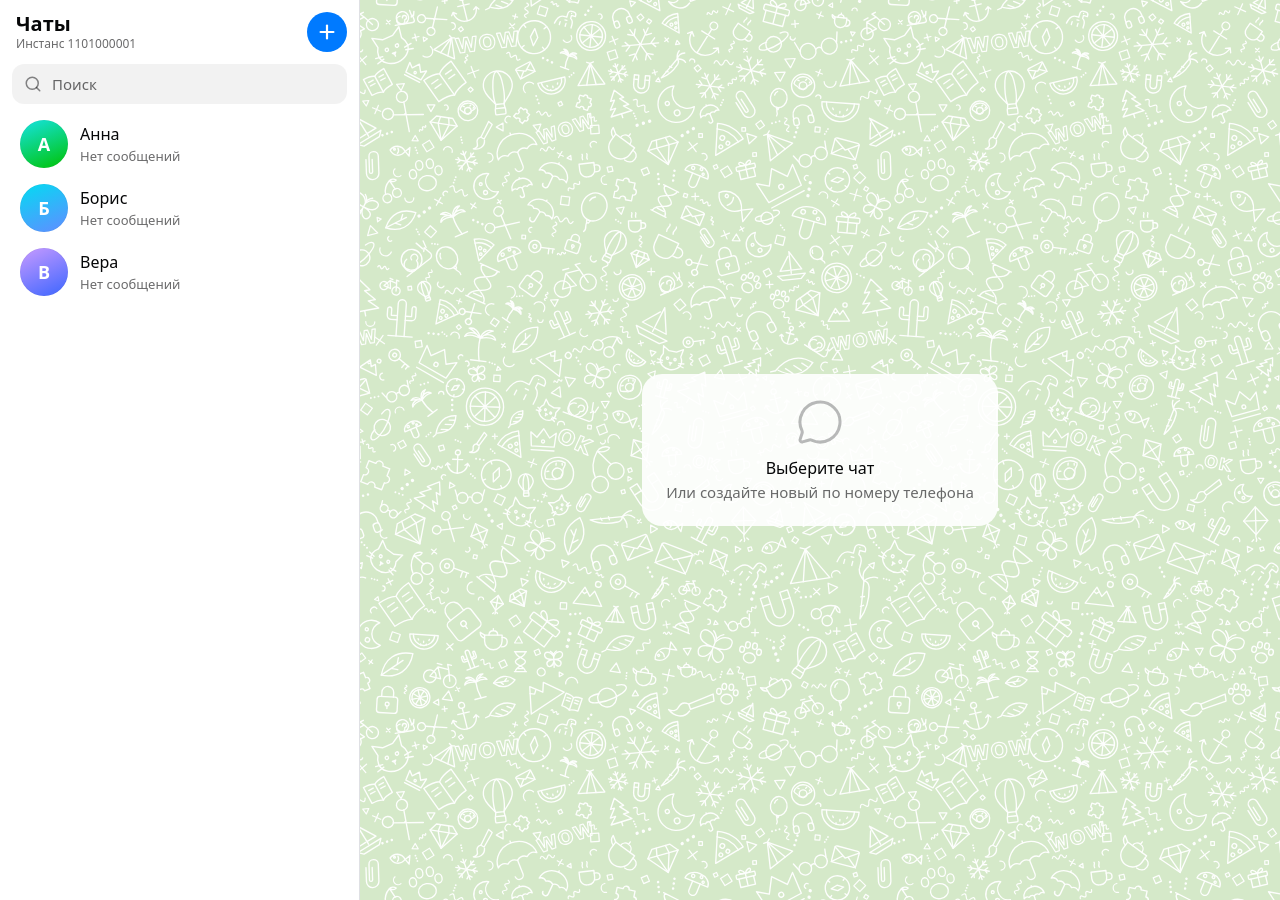
Scenario: ChatPage: история сообщений › если историю получить не удалось, показывает ошибку и повторяет по кнопке
Click the button "А Анна Нет сообщений": [180, 144] box [8,112,351,176]
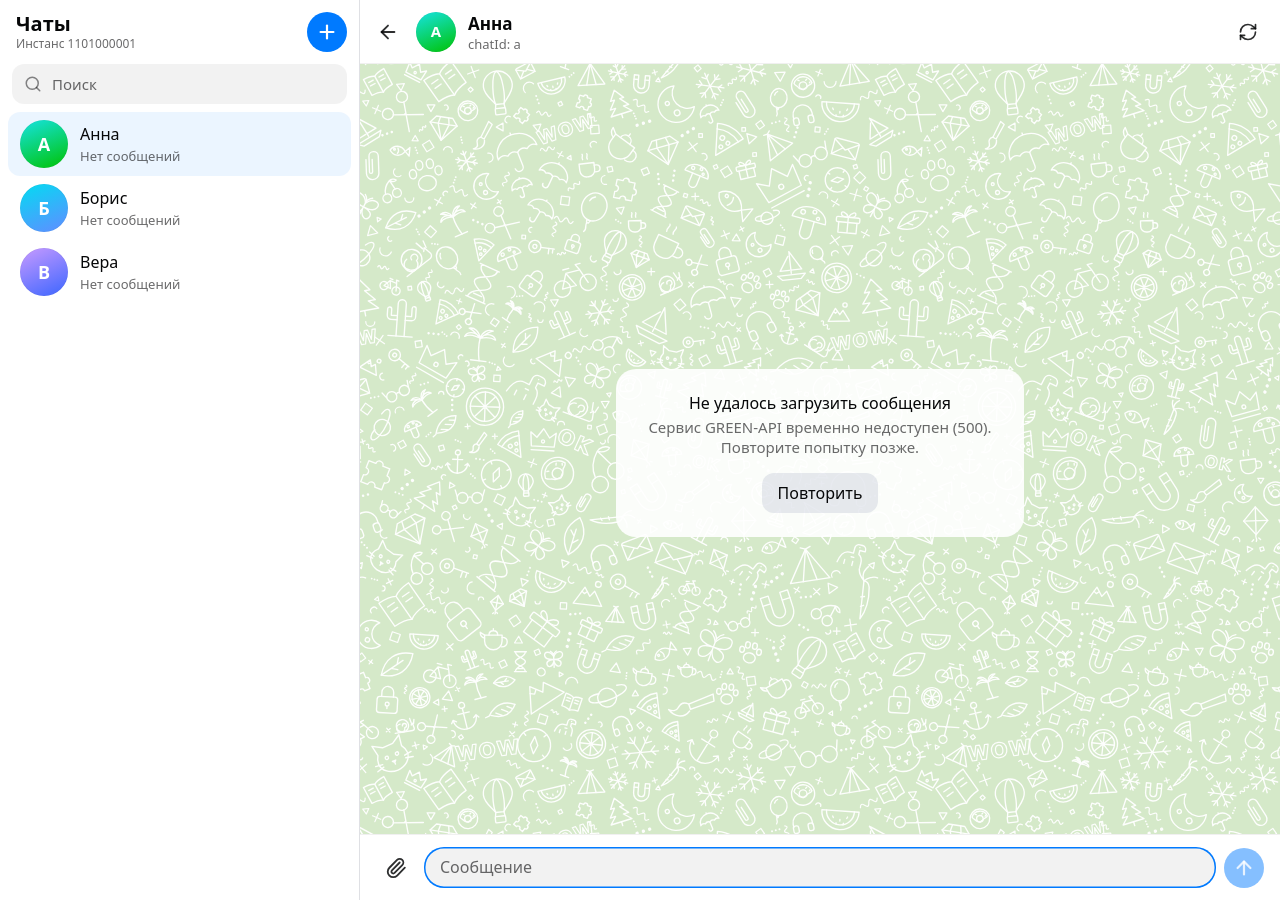
Check: the text "Не удалось загрузить сообщения" is shown, box [689,393,951,413]
Click the button "Повторить": [820, 493] box [762,473,878,513]
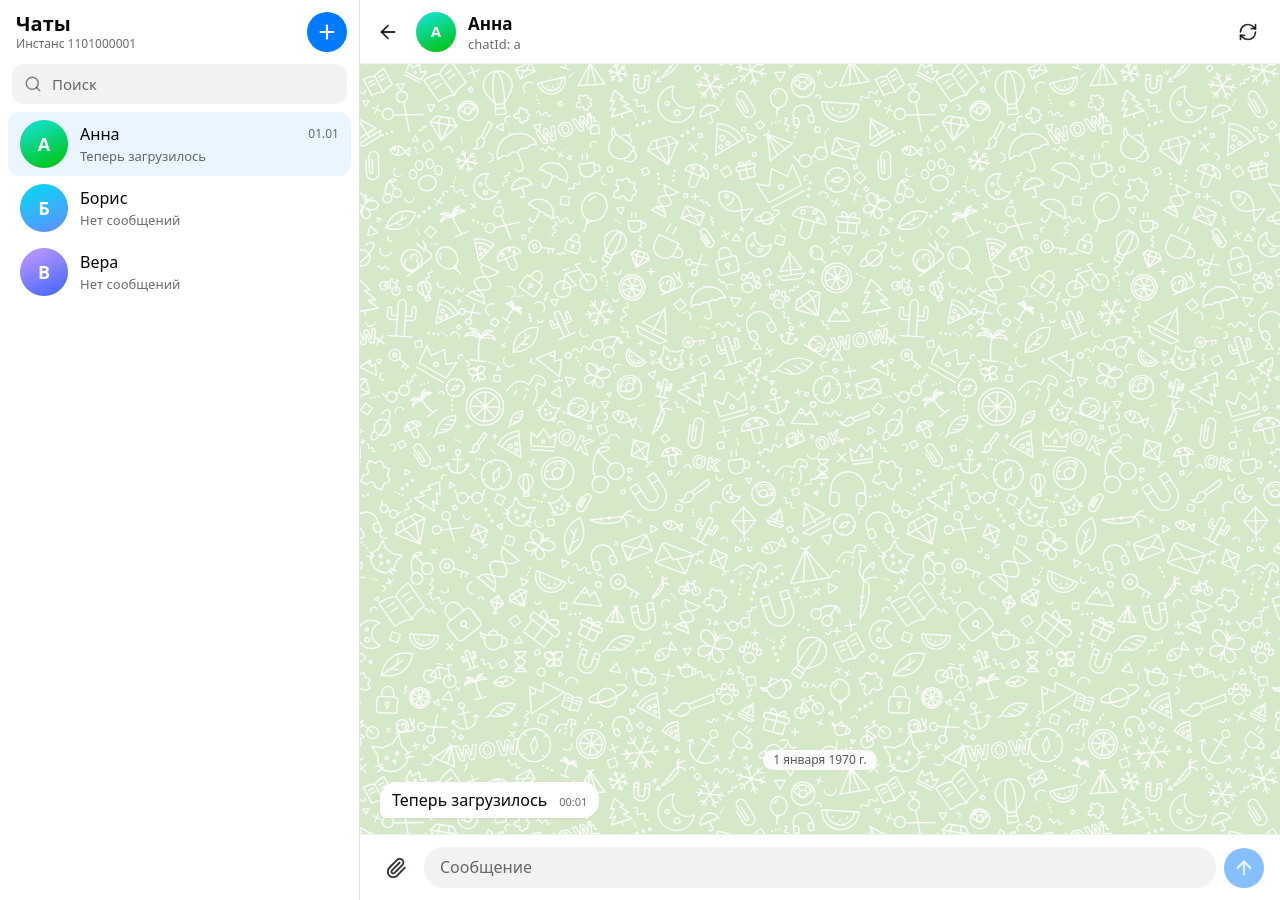
Check: the text "Не удалось загрузить сообщения" is gone
